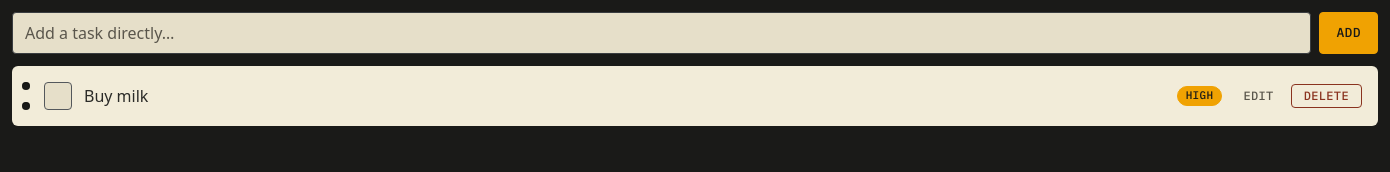
Test case: TaskList › shows a visible error when toggling status fails
This screenshot has width=1390, height=172.
Expected: the text "Buy milk" is shown, [84,85,148,107]
Step 1. Click the checkbox named "buy milk" → (58, 96), box [44,82,72,110]
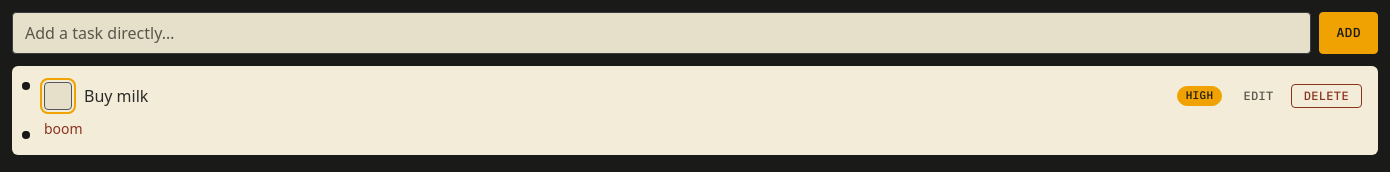
Now the message reads "boom", box [44,119,83,138]
